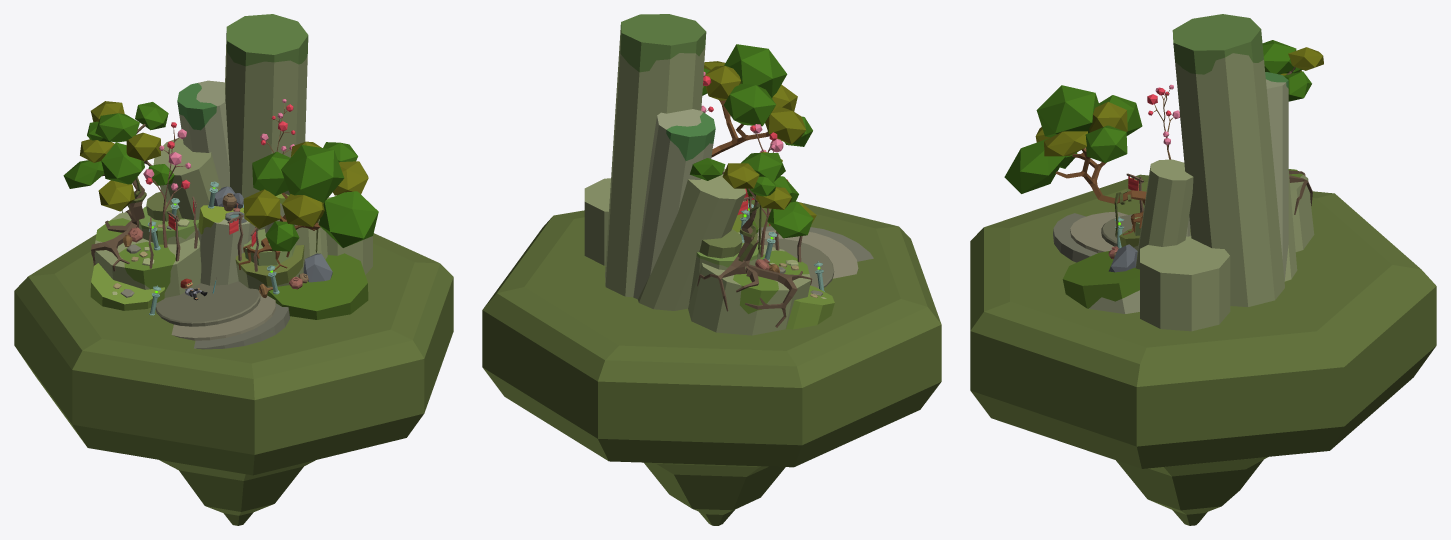
Rendered from updatedvisproject.glb.
The picture shows the model from 3 angles, left to right: view 1: azimuth 30°, elevation 25°; view 2: azimuth 150°, elevation 25°; view 3: azimuth 270°, elevation 25°; orthographic projection. The views are drawn at different scales.
Visible parts, largest first — view 1: Circle, Cylinder018_1, Cylinder003, Cylinder014_1, Cylinder009, Cylinder018_2, Cylinder010, Cylinder004, Cylinder005, Icosphere012, Icosphere013, Cylinder011 (+23 smaller); view 2: Circle, Cylinder018_1, Cylinder009, Cylinder005, Cylinder003, Cylinder018_2, Cube, Cylinder018, Icosphere012, Icosphere014, Cylinder011, Cylinder008 (+12 smaller); view 3: Circle, Cylinder018_1, Cylinder018, Cylinder018_2, MOUNTAINPIECE, Cylinder009, Cylinder014_1, Icosphere012, Icosphere013, Cylinder003, Icosphere015, Cylinder011 (+11 smaller).
Part boxes in pixels (x1,y1,x2,y2): Circle: (14, 233, 453, 525); Cylinder018_1: (225, 39, 307, 230); Cylinder003: (94, 212, 201, 297); Cylinder014_1: (267, 253, 368, 319); Cylinder009: (177, 80, 229, 188); Cylinder018_2: (226, 14, 308, 66); Cylinder010: (155, 281, 260, 326); Cylinder004: (198, 205, 255, 285); Cylinder005: (153, 138, 220, 219); Icosphere012: (281, 145, 344, 202); Icosphere013: (318, 191, 378, 247); Cylinder011: (171, 293, 275, 340); Circle: (482, 200, 941, 525); Cylinder018_1: (605, 30, 705, 297); Cylinder009: (633, 109, 715, 299); Cylinder005: (638, 168, 745, 310); Cylinder003: (688, 245, 811, 335); Cylinder018_2: (620, 14, 706, 72); Cube: (697, 171, 812, 327); Cylinder018: (584, 178, 610, 265); Icosphere012: (724, 44, 787, 97); Icosphere014: (723, 83, 775, 126); Cylinder011: (757, 230, 858, 278); Cylinder008: (786, 285, 834, 329); Circle: (970, 174, 1436, 525); Cylinder018_1: (1175, 53, 1284, 306); Cylinder018: (1140, 236, 1230, 331); Cylinder018_2: (1172, 14, 1263, 74); MOUNTAINPIECE: (1135, 159, 1193, 269); Cylinder009: (1265, 72, 1288, 280); Cylinder014_1: (1062, 251, 1139, 308); Icosphere012: (1036, 85, 1099, 137); Icosphere013: (1004, 138, 1065, 193); Cylinder003: (1288, 169, 1314, 251); Icosphere015: (1085, 125, 1127, 162); Cylinder011: (1070, 211, 1127, 252).
Size of the model in its own units: 16.48 by 19.57 by 16.07.
